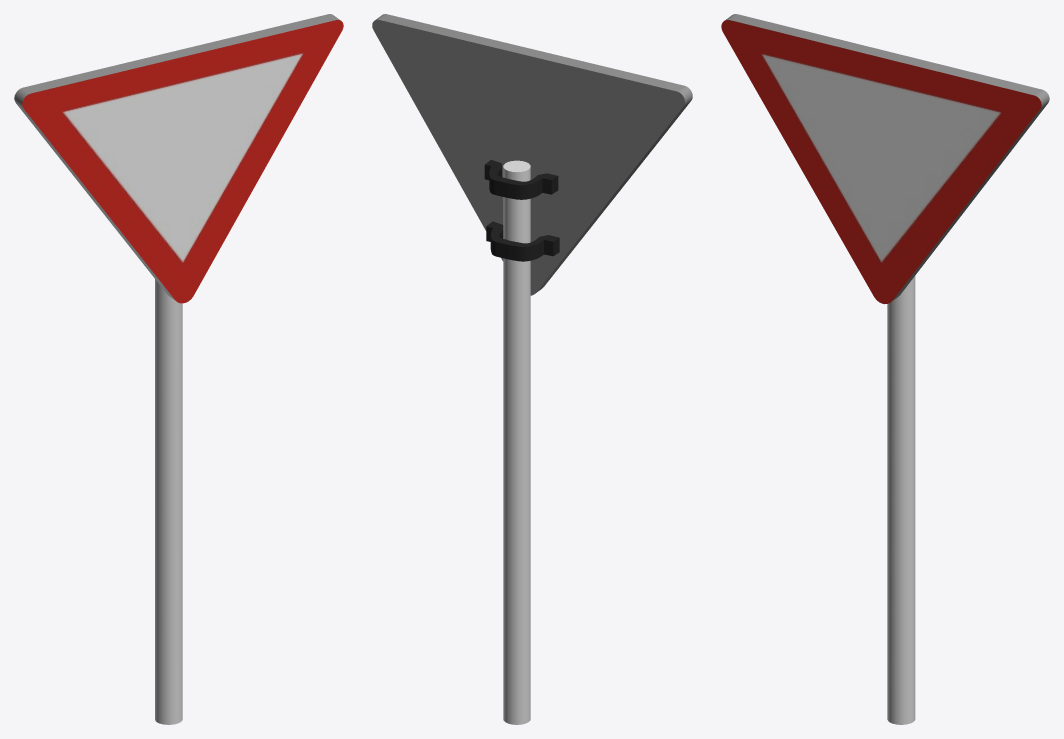
The model's file is yield.fbx.
3 views of the same model, side by side, from view 1: azimuth 30°, elevation 25°; view 2: azimuth 150°, elevation 25°; view 3: azimuth 330°, elevation 25° (orthographic). The views are drawn at different scales.
Parts seen in each view (by area): view 1: Line007, sipka; view 2: Line007, sipka, s, Line006; view 3: Line007, sipka.
Part boxes in pixels (box(x1,y1,x2,y2)): Line007: box(14, 14, 343, 303); sipka: box(155, 279, 182, 724); Line007: box(372, 14, 692, 295); sipka: box(503, 160, 530, 724); s: box(484, 159, 558, 199); Line006: box(486, 221, 559, 261); Line007: box(721, 14, 1049, 304); sipka: box(887, 276, 915, 724).
Size of the model in its own units: 34.73 by 69.8 by 5.72.
Materials: 5 (1 with a texture image).
